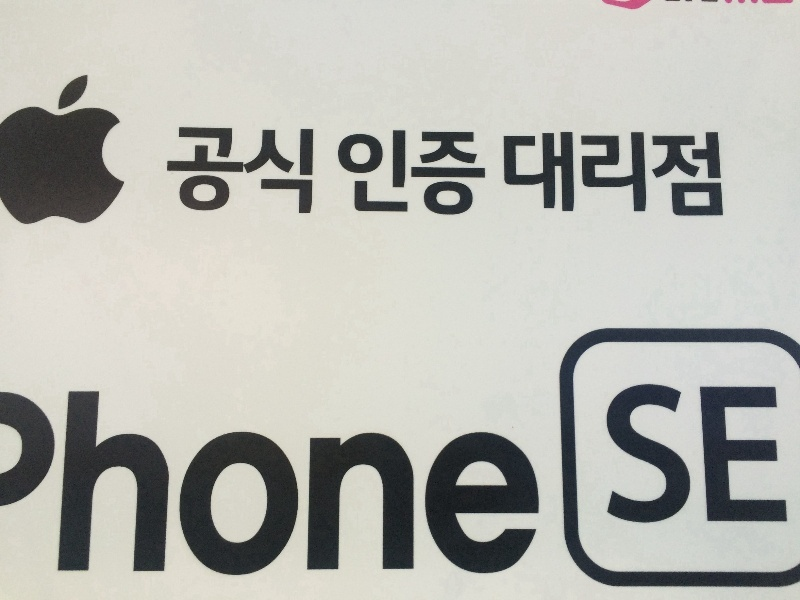text: (1, 378, 16, 580), (17, 378, 32, 580), (33, 378, 48, 580), (49, 378, 64, 580), (65, 378, 80, 580), (81, 378, 96, 580), (97, 378, 112, 580), (113, 378, 128, 580), (129, 378, 144, 580), (145, 378, 160, 580), (161, 378, 176, 580), (177, 378, 192, 580), (193, 378, 208, 580), (209, 378, 224, 580), (225, 378, 240, 580), (241, 378, 256, 580), (257, 378, 272, 580), (273, 378, 288, 580), (289, 378, 304, 580), (305, 378, 320, 580), (321, 378, 336, 580), (337, 378, 352, 580), (353, 378, 368, 580), (369, 378, 384, 580), (385, 378, 400, 580), (401, 378, 416, 580), (417, 378, 432, 580), (433, 378, 448, 580), (449, 378, 464, 580), (465, 378, 480, 580), (481, 378, 496, 580), (497, 378, 512, 580), (513, 378, 528, 580), (529, 378, 544, 580), (609, 384, 624, 529), (625, 384, 640, 529), (641, 384, 656, 529), (657, 384, 672, 529), (673, 384, 688, 529), (689, 384, 704, 529), (705, 384, 720, 529), (721, 384, 736, 529), (737, 384, 752, 529), (753, 384, 768, 529), (769, 384, 784, 529), (177, 122, 192, 217), (193, 122, 208, 217), (209, 122, 224, 217), (225, 122, 240, 217), (241, 122, 256, 217), (257, 122, 272, 217), (273, 122, 288, 217), (289, 122, 304, 217), (513, 127, 528, 221), (529, 127, 544, 221), (545, 127, 560, 221), (561, 127, 576, 221), (577, 127, 592, 221), (593, 127, 608, 221), (609, 127, 624, 221), (625, 127, 640, 221), (641, 127, 656, 221), (657, 127, 672, 221), (673, 127, 688, 221), (689, 127, 704, 221), (705, 127, 720, 221), (353, 126, 368, 219), (369, 126, 384, 219), (385, 126, 400, 219), (401, 126, 416, 219), (417, 126, 432, 219), (433, 126, 448, 219), (449, 126, 464, 219), (465, 126, 480, 219), (338, 126, 352, 219), (305, 122, 317, 217), (785, 384, 792, 529), (503, 127, 512, 221), (481, 126, 489, 219), (721, 127, 727, 221), (172, 122, 176, 217), (607, 384, 608, 529)
